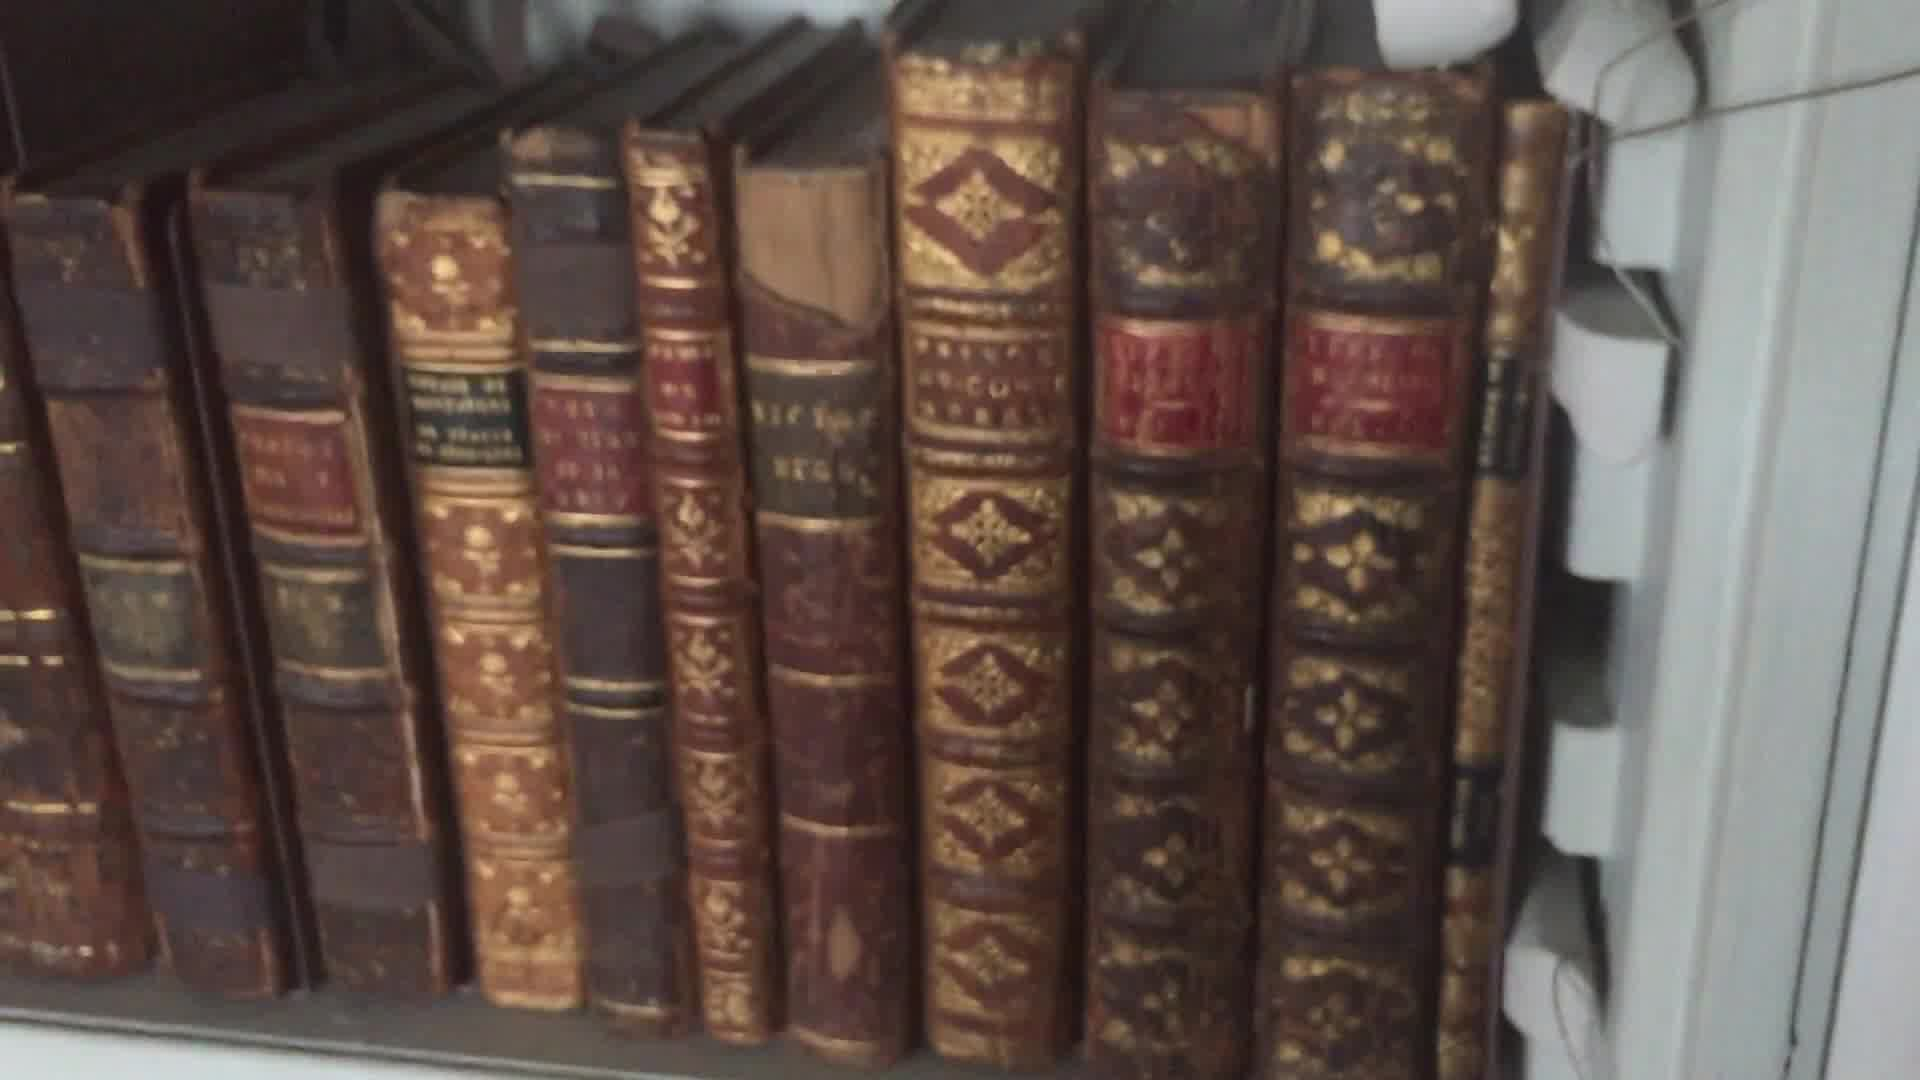Aa6-39_40: (16, 178, 463, 982)
Aa6-41: (336, 183, 624, 1025)
Aa6-42: (458, 135, 709, 1005)
Aa6-43: (615, 123, 796, 1054)
Aa6-44: (719, 144, 920, 1058)
Aa6-45: (885, 40, 1095, 1065)
Aa6-46-47: (1083, 75, 1462, 1080)
Aa6-48: (1472, 100, 1509, 1075)
